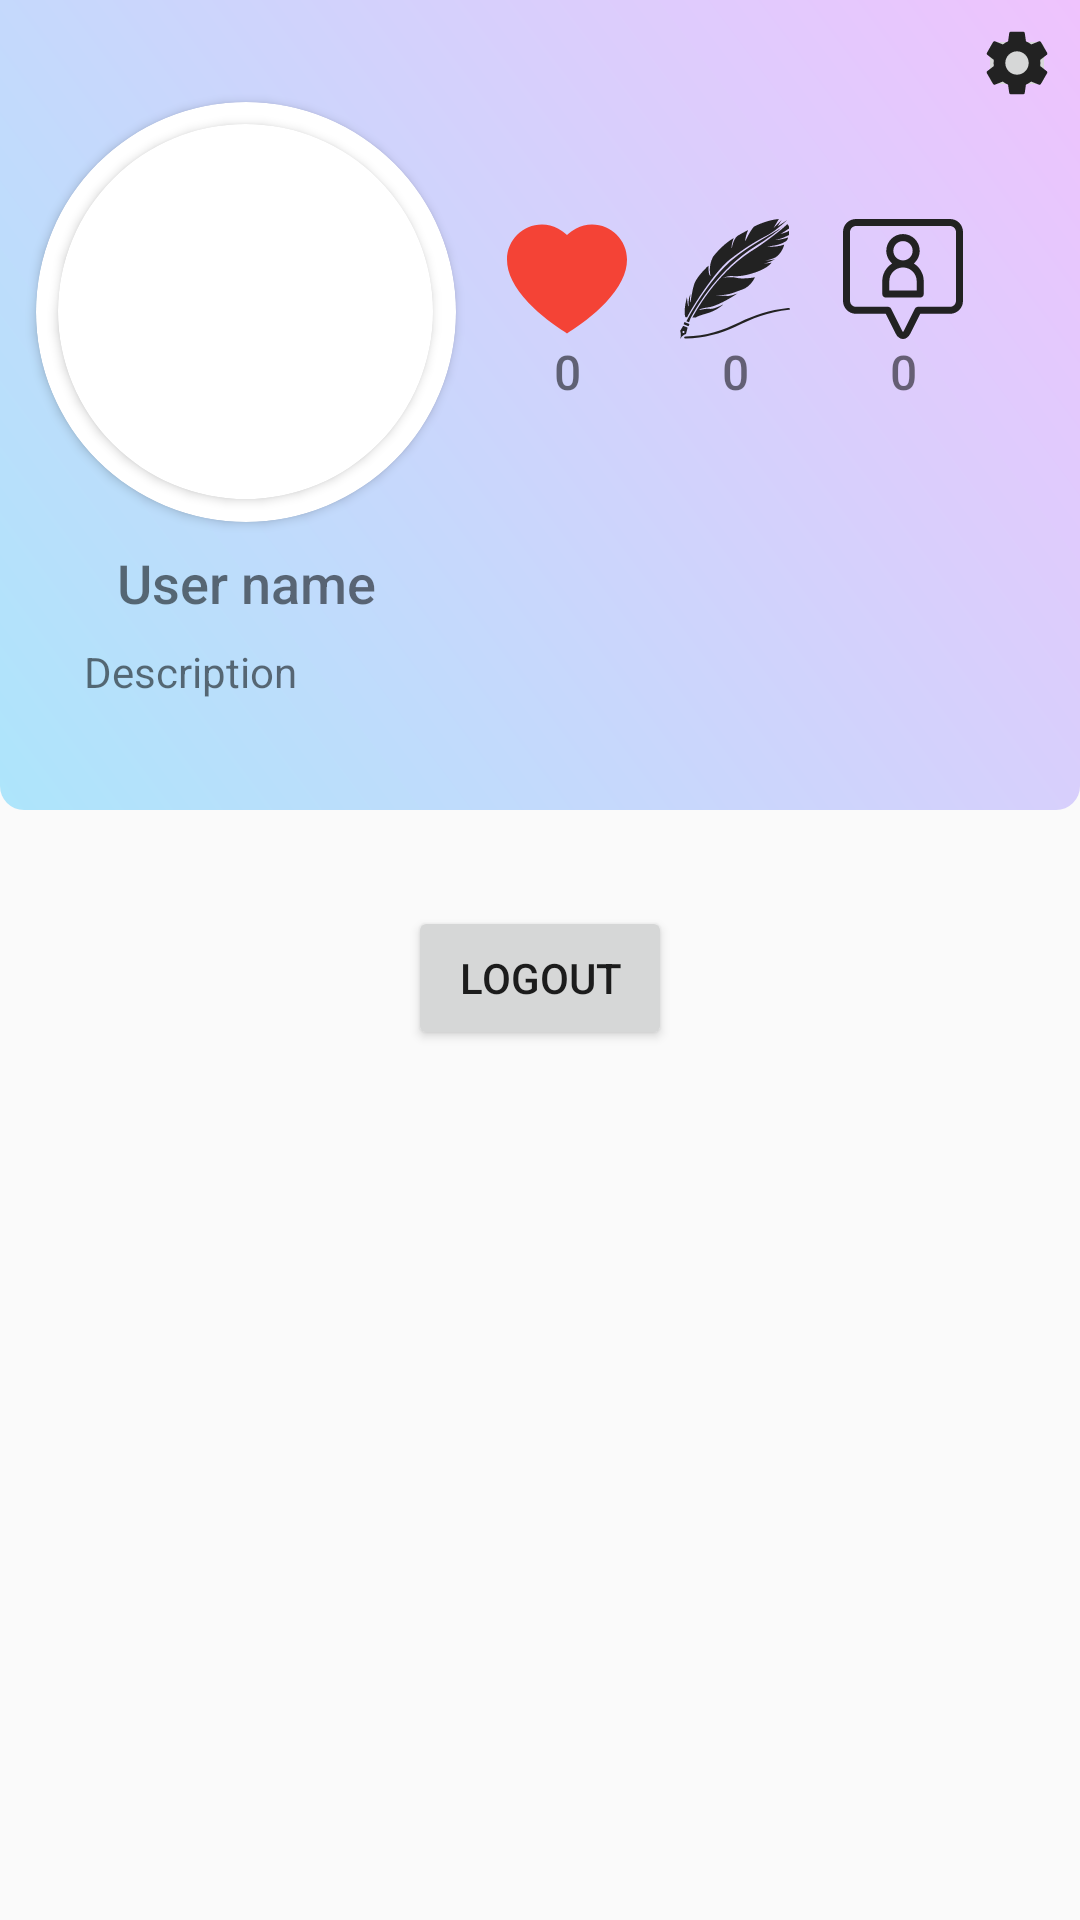

Point at icon controls on the screen. Image size 1080 x 1920, points as point (x, y).
follower: point (903, 279)
heart: point (567, 279)
posts written: point (735, 279)
Settings: point (1017, 63)
